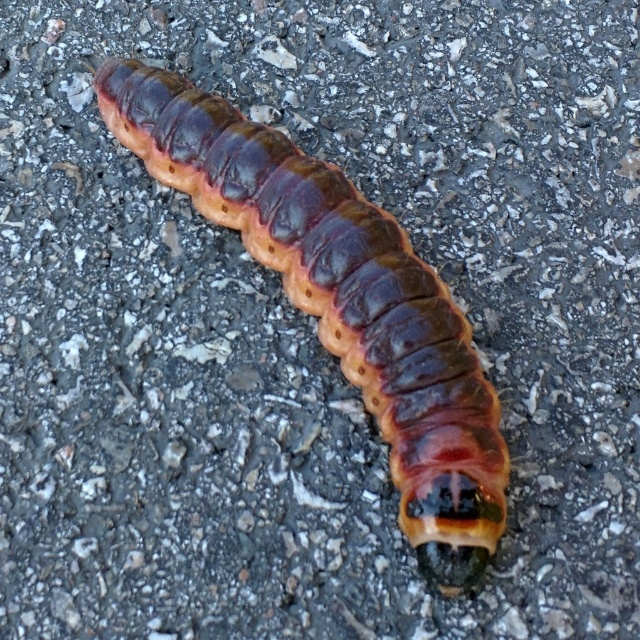Caterpillar: (66, 54, 514, 600)
